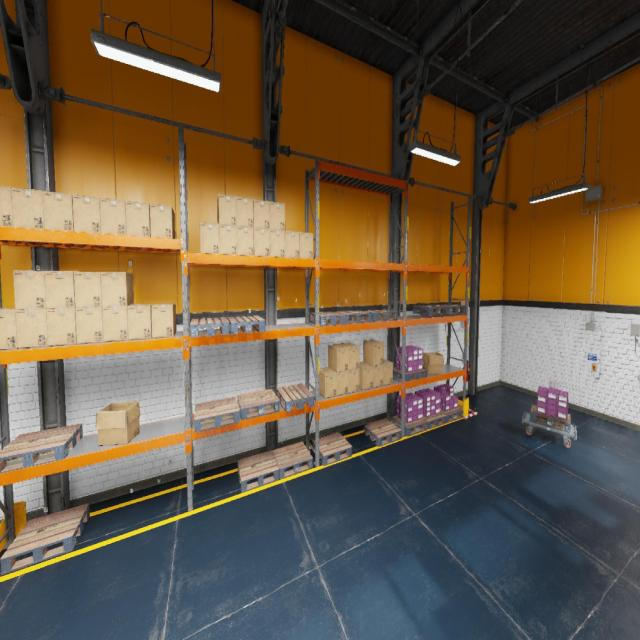box: (95, 402, 140, 445), (11, 186, 44, 228), (13, 270, 46, 310), (15, 309, 48, 348), (42, 191, 74, 231), (46, 308, 77, 346), (100, 272, 134, 306), (44, 271, 75, 308), (72, 194, 101, 233), (75, 307, 103, 344), (74, 272, 102, 308), (100, 197, 126, 235), (127, 304, 155, 339), (102, 306, 128, 342), (126, 200, 150, 237), (151, 303, 176, 338), (150, 203, 175, 238), (0, 307, 17, 349), (200, 222, 219, 254), (218, 194, 236, 226), (328, 344, 348, 372), (319, 367, 337, 398), (236, 197, 254, 227), (219, 224, 237, 254), (0, 186, 13, 227), (340, 342, 359, 370), (236, 227, 254, 256), (364, 340, 384, 366), (253, 199, 270, 229), (364, 362, 383, 388), (253, 228, 270, 256), (423, 352, 443, 374), (270, 230, 285, 258), (359, 361, 373, 390), (270, 201, 284, 230), (285, 230, 299, 258), (300, 232, 313, 258), (337, 370, 348, 396), (348, 368, 359, 393), (383, 359, 393, 385)
pallets: (0, 503, 89, 574), (0, 423, 83, 473), (237, 451, 279, 492), (194, 397, 240, 432), (272, 441, 312, 479), (312, 432, 352, 466), (237, 388, 279, 419), (530, 404, 570, 432), (276, 383, 314, 412), (364, 419, 401, 446), (190, 317, 229, 337), (392, 416, 427, 436), (228, 316, 266, 334), (334, 310, 372, 324), (309, 312, 346, 326), (393, 366, 427, 381), (363, 310, 398, 322), (422, 412, 446, 429), (440, 407, 463, 423), (413, 305, 448, 315), (434, 304, 466, 314)
